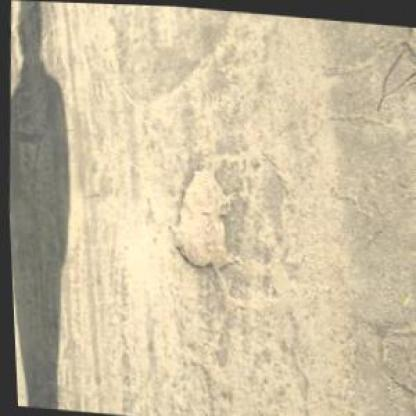pothole: (161, 158, 241, 275)
